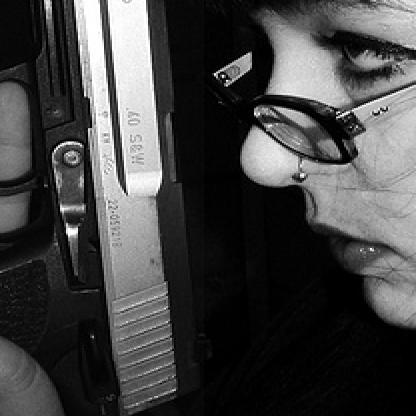gun: (0, 0, 223, 415)
